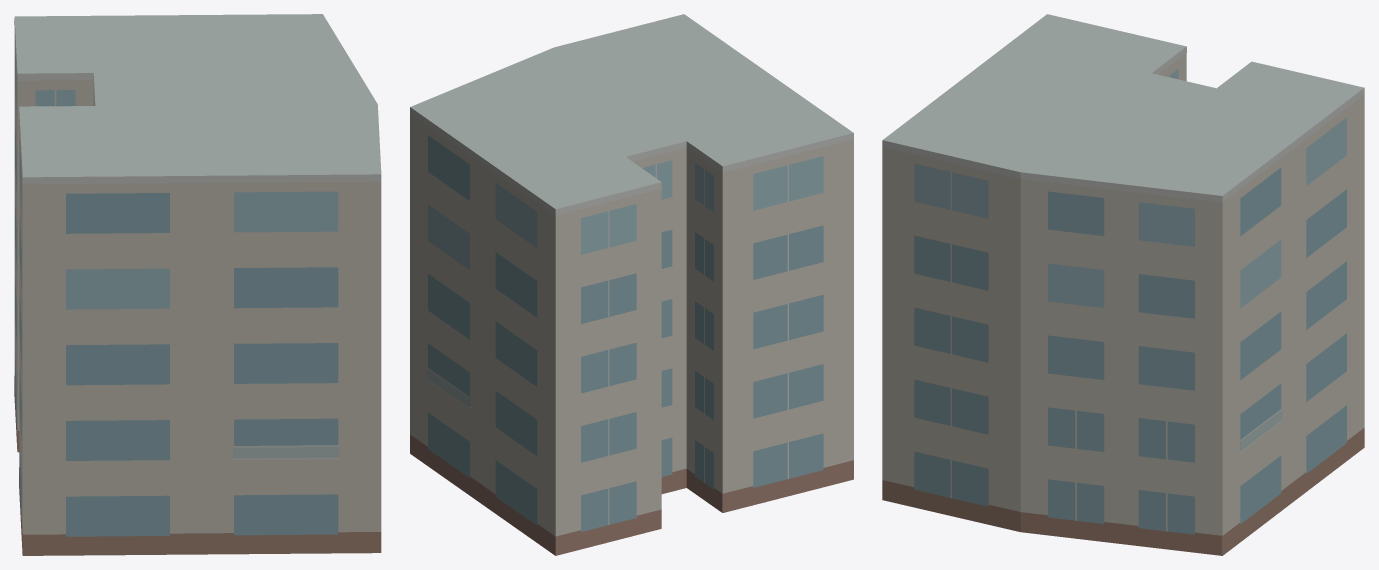
File: survey-upis-32871005.glb
3 renders of one model, left to right at view 1: azimuth 30°, elevation 25°; view 2: azimuth 150°, elevation 25°; view 3: azimuth 270°, elevation 25°, orthographic. The views are drawn at different scales.
Parts seen in each view (by area): view 1: survey-upis-32871005.tmp; view 2: survey-upis-32871005.tmp; view 3: survey-upis-32871005.tmp.
Part boxes in pixels (x1,y1,x2,y2): survey-upis-32871005.tmp: (14, 14, 381, 555); survey-upis-32871005.tmp: (410, 14, 853, 555); survey-upis-32871005.tmp: (882, 14, 1364, 555).
Size of the model in its own units: 14.22 by 13.1 by 15.92.
